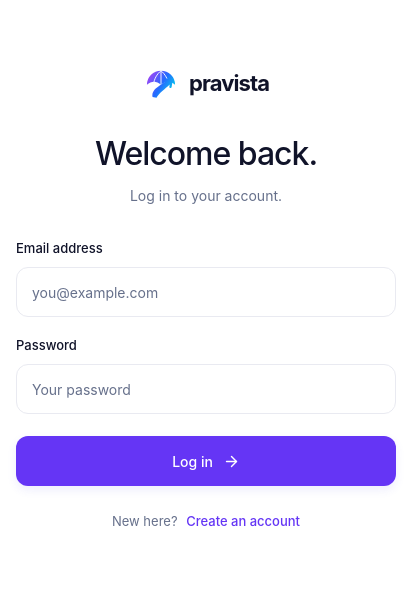
Scenario: authentication leads to the main page › keeps failed login on the form with a useful error
The image size is (413, 599).
Type "test@example.invalid" into the field labelled "Email address" at (206, 292), box [16,267,396,317]
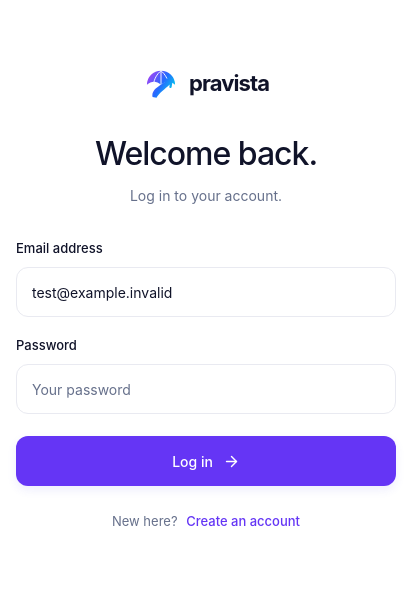
Type "test-password" into the password field labelled "Password" at (206, 390), box [16,364,396,414]
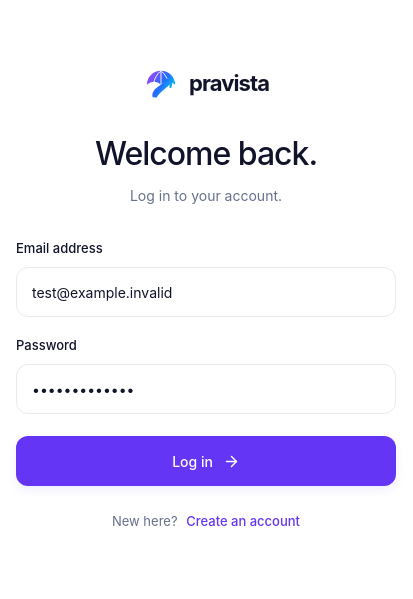
Click the button "Log in" at (206, 462), box [16,436,396,486]
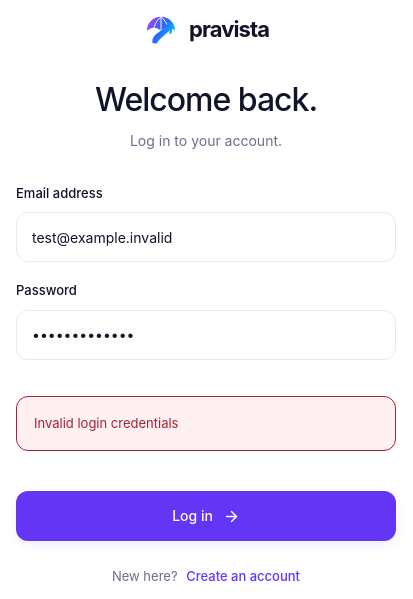
Result: the message reads "Invalid login credentials" at [34,415,178,431]
